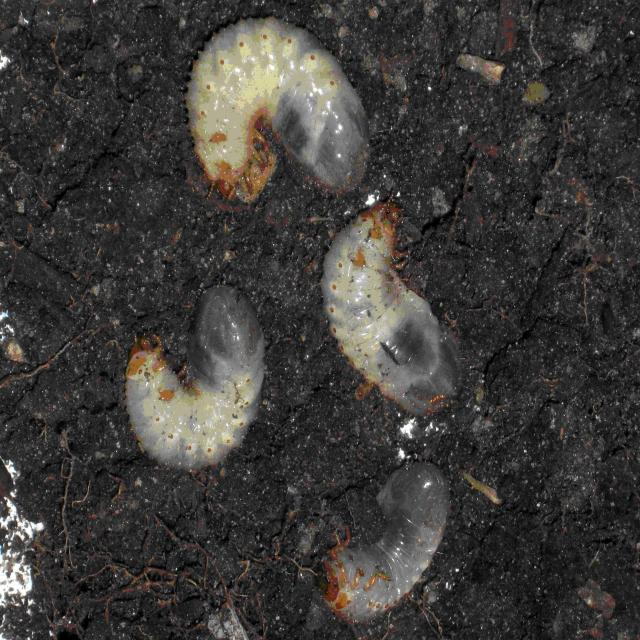grub: (172, 13, 374, 201), (116, 267, 269, 476), (318, 201, 464, 416), (324, 469, 449, 626)
